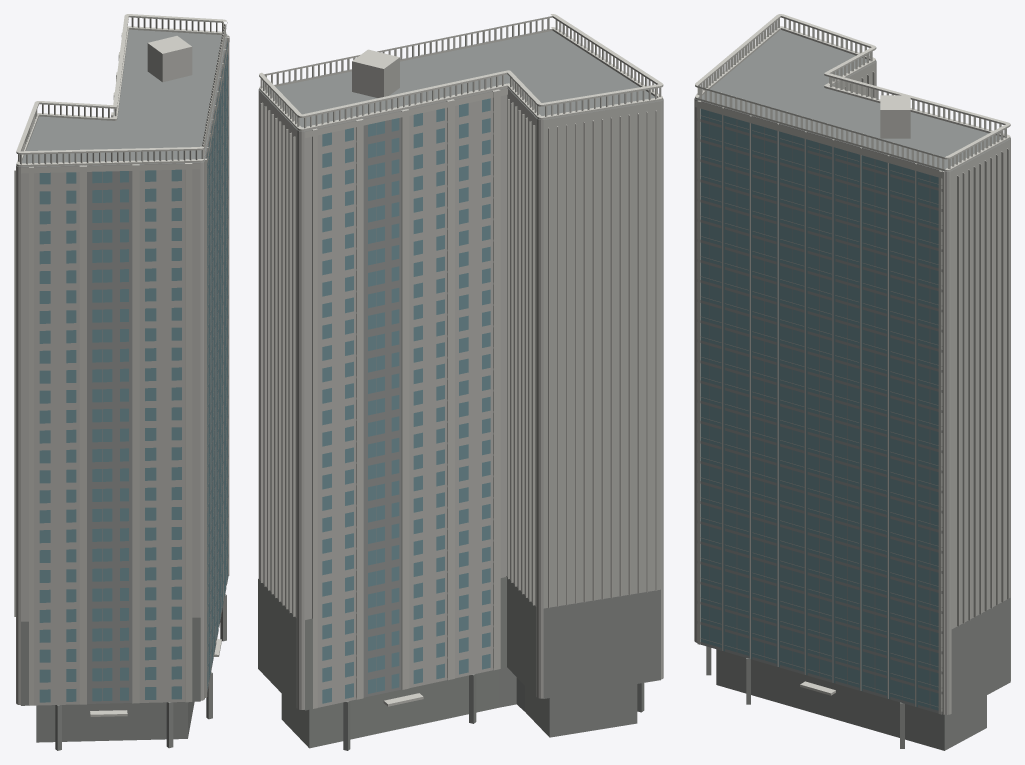
Rendered from maple-xi-215.glb.
3 views of the same model, side by side, from view 1: azimuth 30°, elevation 25°; view 2: azimuth 150°, elevation 25°; view 3: azimuth 270°, elevation 25° (orthographic). The views are drawn at different scales.
Visible parts, largest first — view 1: maple-xi-215; view 2: maple-xi-215; view 3: maple-xi-215.
Boxes of the visible parts, x1=… form: maple-xi-215: x1=14, y1=14, x2=229, y2=750; maple-xi-215: x1=258, y1=14, x2=663, y2=750; maple-xi-215: x1=694, y1=14, x2=1010, y2=750.
Bounding box in the file's own units: 47.49 × 94.56 × 44.14.
